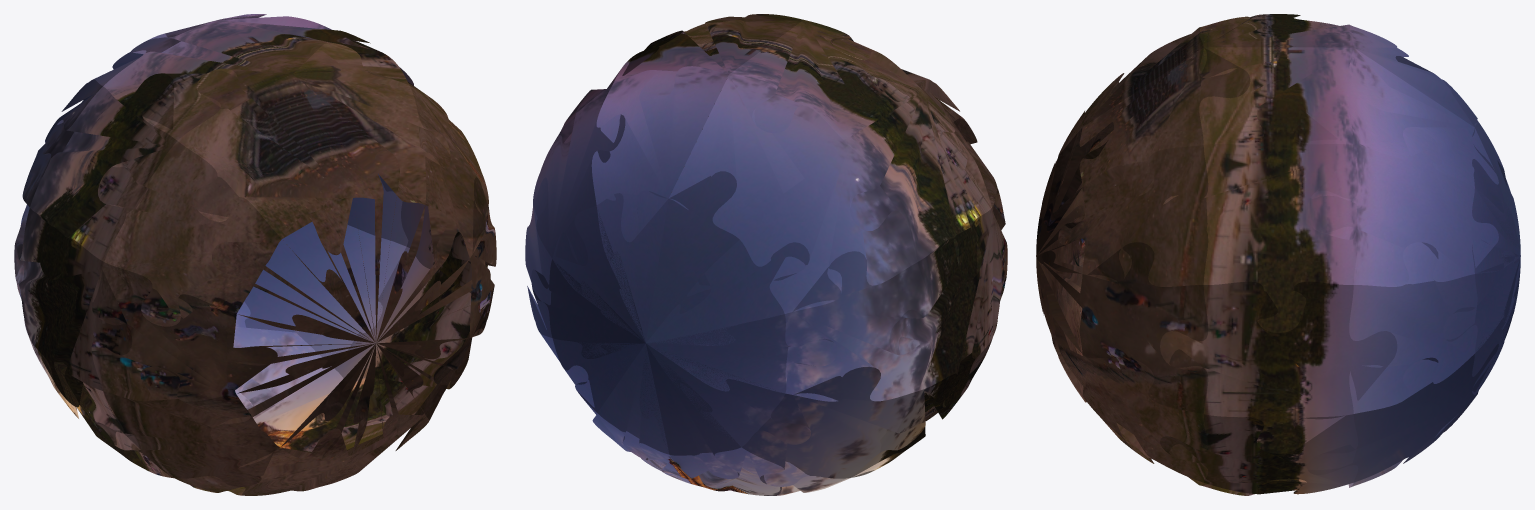
The model's file is easy-puzzle-v22.fbx.
The picture shows the model from 3 angles, left to right: view 1: azimuth 30°, elevation 25°; view 2: azimuth 150°, elevation 25°; view 3: azimuth 270°, elevation 25°; orthographic projection.
Parts seen in each view (by area): view 1: Street View 360 1.045, Street View 360 1.018, Street View 360 1.042, Street View 360 1.013, Street View 360 1.046, Street View 360 1.044, Street View 360 1.035, Street View 360 1.032, Street View 360 1.047, Street View 360 1.017, Street View 360 1.039, Street View 360 1.043 (+12 smaller); view 2: Street View 360 1.025, Street View 360 1.027, Street View 360 1.028, Street View 360 1.042, Street View 360 1.016, Street View 360 1.006, Street View 360 1.029, Street View 360 1.035, Street View 360 1.017, Street View 360 1.034, Street View 360 1.005, Street View 360 1.030 (+6 smaller); view 3: Street View 360 1.041, Street View 360 1.040, Street View 360 1.034, Street View 360 1.043, Street View 360 1.051, Street View 360 1.005, Street View 360 1.033, Street View 360 1.044, Street View 360 1.039, Street View 360 1.050, Street View 360 1.025, Street View 360 1.013 (+6 smaller).
Boxes of the visible parts, x1=… form: Street View 360 1.045: x1=104, y1=141, x2=281, y2=326; Street View 360 1.018: x1=178, y1=68, x2=352, y2=255; Street View 360 1.042: x1=30, y1=73, x2=176, y2=279; Street View 360 1.013: x1=217, y1=175, x2=480, y2=455; Street View 360 1.046: x1=91, y1=262, x2=277, y2=401; Street View 360 1.044: x1=293, y1=43, x2=450, y2=204; Street View 360 1.035: x1=14, y1=208, x2=132, y2=405; Street View 360 1.032: x1=244, y1=222, x2=406, y2=357; Street View 360 1.047: x1=96, y1=367, x2=279, y2=486; Street View 360 1.017: x1=103, y1=20, x2=292, y2=140; Street View 360 1.039: x1=334, y1=247, x2=471, y2=416; Street View 360 1.043: x1=410, y1=86, x2=488, y2=265; Street View 360 1.025: x1=532, y1=171, x2=833, y2=475; Street View 360 1.027: x1=740, y1=141, x2=916, y2=313; Street View 360 1.028: x1=785, y1=251, x2=929, y2=401; Street View 360 1.042: x1=844, y1=73, x2=991, y2=274; Street View 360 1.016: x1=669, y1=74, x2=843, y2=239; Street View 360 1.006: x1=591, y1=66, x2=728, y2=242; Street View 360 1.029: x1=741, y1=366, x2=925, y2=484; Street View 360 1.035: x1=889, y1=208, x2=1007, y2=407; Street View 360 1.017: x1=729, y1=20, x2=918, y2=140; Street View 360 1.034: x1=533, y1=86, x2=625, y2=265; Street View 360 1.005: x1=612, y1=14, x2=803, y2=103; Street View 360 1.030: x1=661, y1=447, x2=846, y2=495; Street View 360 1.041: x1=1163, y1=100, x2=1358, y2=332; Street View 360 1.040: x1=1160, y1=281, x2=1397, y2=453; Street View 360 1.034: x1=1310, y1=127, x2=1498, y2=286; Street View 360 1.043: x1=1058, y1=145, x2=1208, y2=286; Street View 360 1.051: x1=1079, y1=242, x2=1208, y2=413; Street View 360 1.005: x1=1199, y1=47, x2=1397, y2=144; Street View 360 1.033: x1=1349, y1=242, x2=1477, y2=413; Street View 360 1.044: x1=1079, y1=47, x2=1250, y2=196; Street View 360 1.039: x1=1160, y1=414, x2=1358, y2=494; Street View 360 1.050: x1=1058, y1=344, x2=1208, y2=482; Street View 360 1.025: x1=1443, y1=80, x2=1520, y2=432; Street View 360 1.013: x1=1036, y1=129, x2=1108, y2=394.
Bounding box in the file's own units: 3.82 × 3.85 × 3.78.
